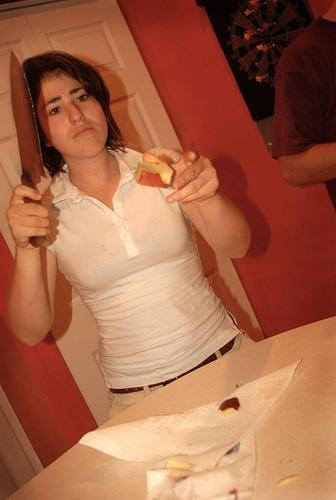apple: (134, 161, 173, 188), (218, 397, 240, 417)
